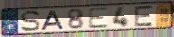4: (111, 6, 131, 28)
8: (67, 8, 86, 30)
A: (41, 10, 66, 31)
E: (133, 4, 156, 28), (87, 7, 110, 30)
S: (19, 10, 41, 33)
